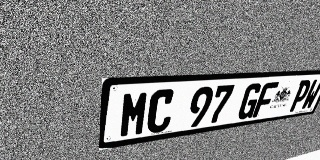7: (206, 85, 235, 125)
9: (185, 86, 215, 128)
C: (145, 89, 176, 134)
F: (252, 82, 279, 118)
G: (236, 83, 264, 120)
M: (119, 90, 150, 138)
P: (288, 80, 313, 112)
W: (300, 79, 320, 110)
